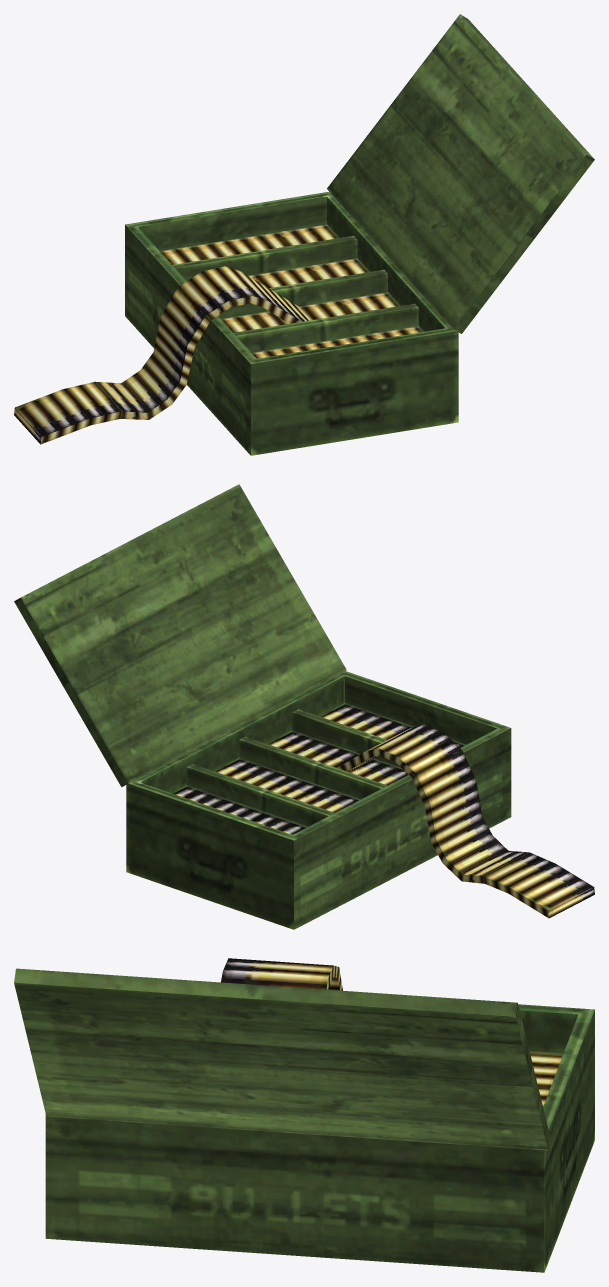
File: ammo.glb
The picture shows the model from 3 angles, top to bottom: view 1: azimuth 30°, elevation 25°; view 2: azimuth 150°, elevation 25°; view 3: azimuth 270°, elevation 25°; orthographic projection. The views are drawn at different scales.
Parts seen in each view (by area): view 1: Bullets_malha.001; view 2: Bullets_malha.001; view 3: Bullets_malha.001.
Boxes of the visible parts, left/top/right/bottom form: Bullets_malha.001: left=14, top=14, right=594, bottom=455; Bullets_malha.001: left=14, top=484, right=594, bottom=929; Bullets_malha.001: left=14, top=958, right=594, bottom=1272.
Size of the model in its own units: 0.42 by 0.1932 by 0.2888.
1 material, 1 textured.
